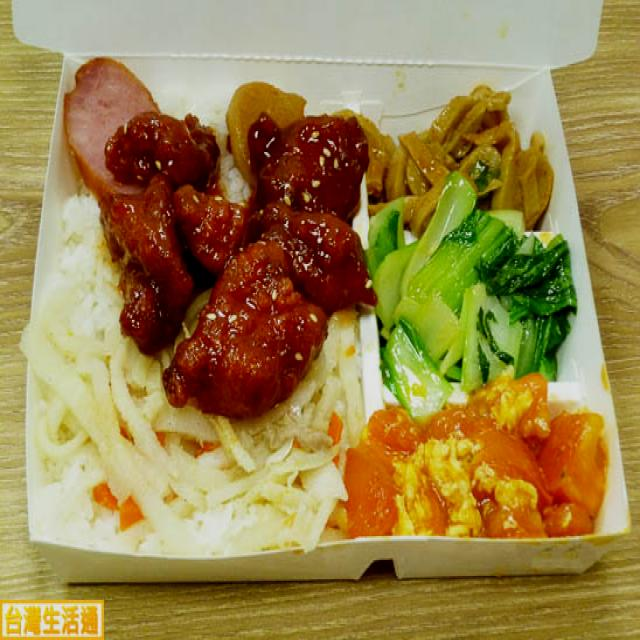Fushan-lettuce: (377, 235, 581, 384)
Scramble Egg with Tomatoes: (375, 394, 592, 524)
three-cup chicken: (126, 117, 352, 380)
